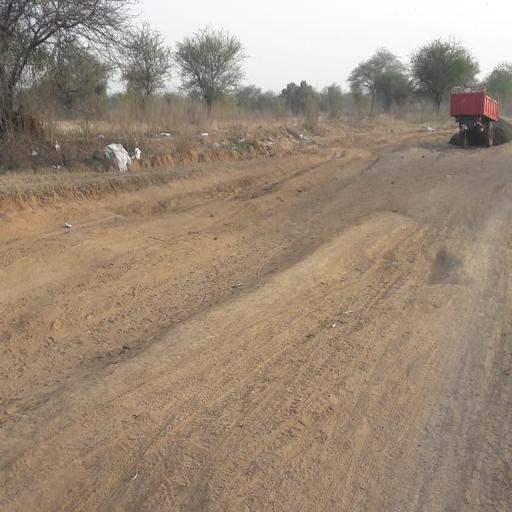vehicle_track: (1, 139, 512, 512), (0, 153, 366, 419), (0, 153, 334, 267)
